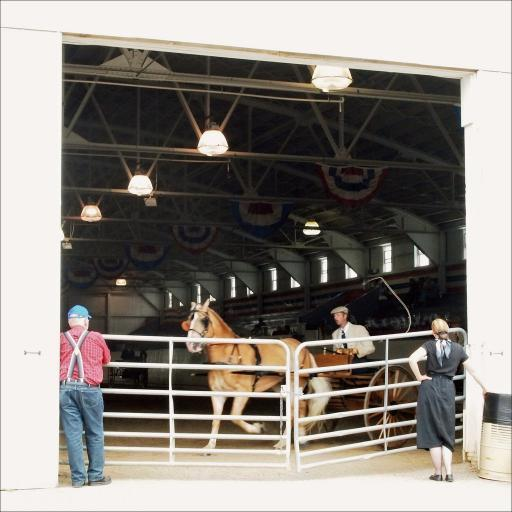horse: (184, 298, 336, 458)
